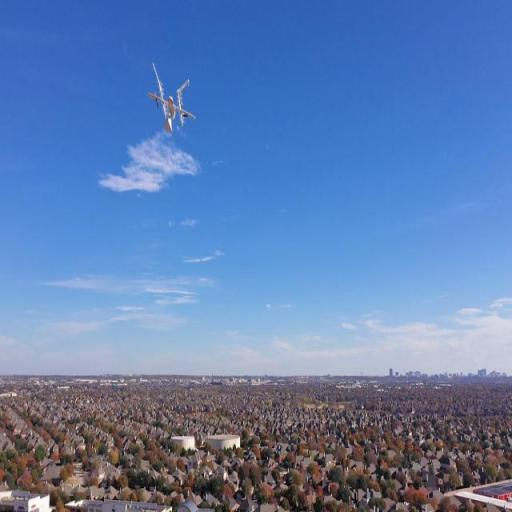uav: (137, 56, 220, 151)
